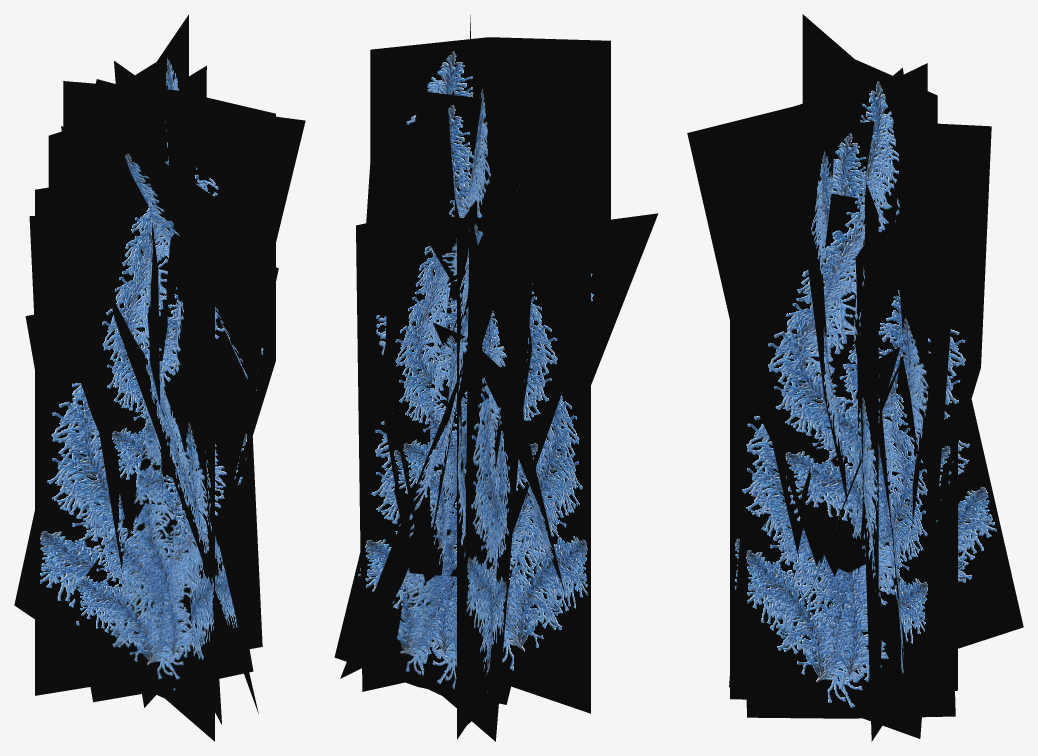
Rendered from plante_5_2.FBX.
3 renders of one model, left to right at view 1: azimuth 30°, elevation 25°; view 2: azimuth 150°, elevation 25°; view 3: azimuth 270°, elevation 25°, orthographic. The views are drawn at different scales.
Parts seen in each view (by area): view 1: Plane453; view 2: Plane453; view 3: Plane453.
Part boxes in pixels (x1=…): Plane453: x1=14, y1=14, x2=305, y2=741; Plane453: x1=334, y1=15, x2=658, y2=741; Plane453: x1=687, y1=14, x2=1023, y2=741.
Size of the model in its own units: 153 by 403 by 190.
